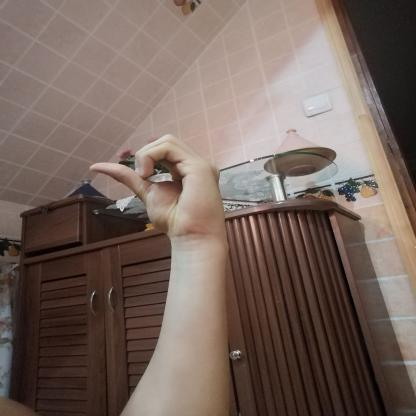WAW: (78, 127, 232, 245)
